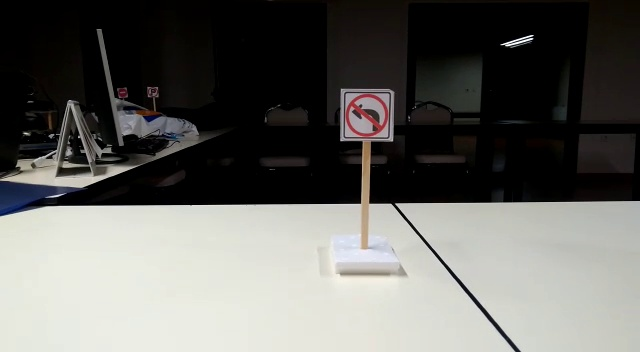sola_donulmez: (340, 91, 393, 144)
